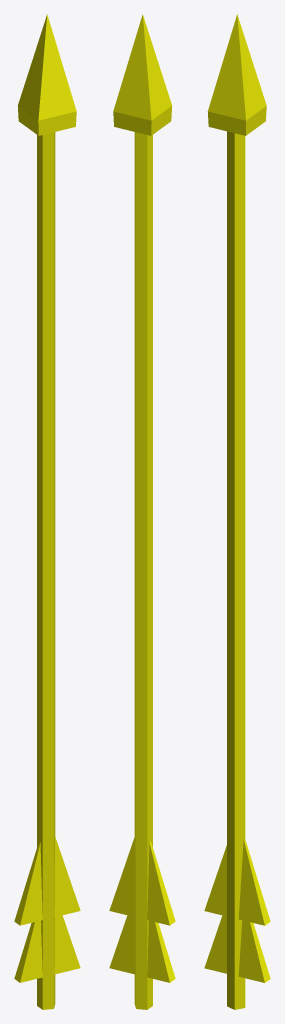
File: _arrow_c_22.glb
The picture shows the model from 3 angles, left to right: view 1: azimuth 30°, elevation 25°; view 2: azimuth 150°, elevation 25°; view 3: azimuth 330°, elevation 25°; orthographic projection.
Parts seen in each view (by area): view 1: arrow_c_22; view 2: arrow_c_22; view 3: arrow_c_22.
Part boxes in pixels (x1,y1,x2,y2): arrow_c_22: (14, 14, 80, 1009); arrow_c_22: (109, 14, 175, 1009); arrow_c_22: (204, 14, 270, 1009).
Size of the model in its own units: 1243 by 19435 by 733.
